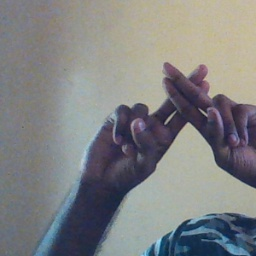F: (131, 48, 246, 168)
